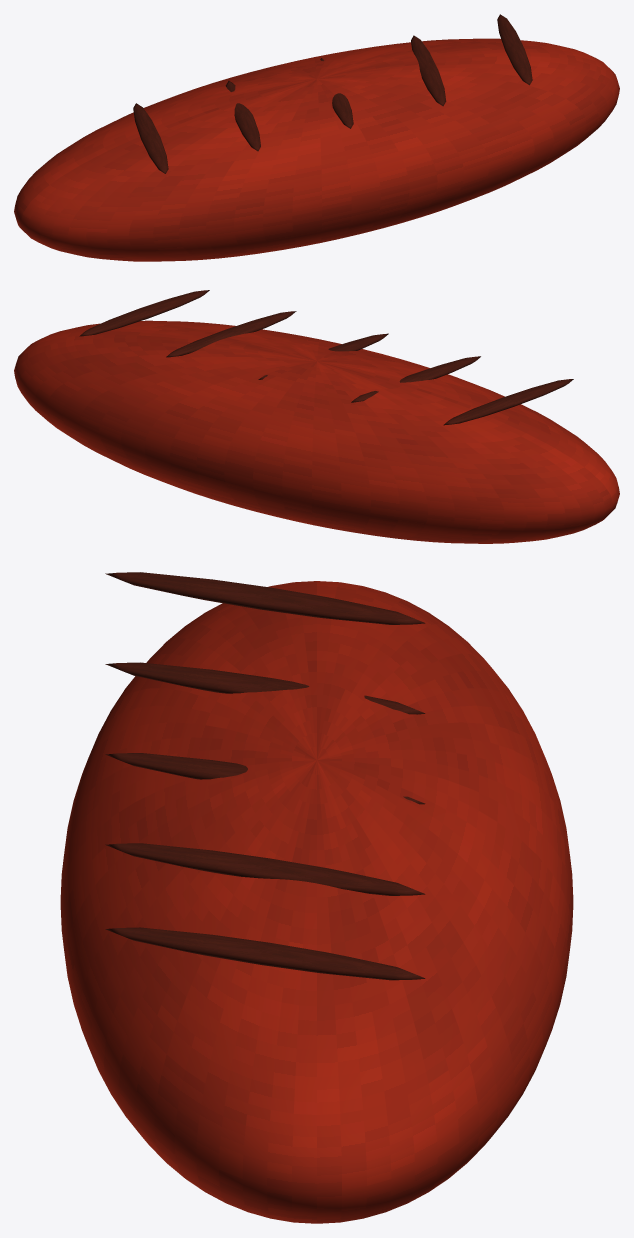
File: item_grilled_sausage.glb
3 renders of one model, top to bottom at view 1: azimuth 30°, elevation 25°; view 2: azimuth 150°, elevation 25°; view 3: azimuth 270°, elevation 25°, orthographic. The views are drawn at different scales.
Visible parts, largest first — view 1: 一本焼きソーセージ, 香ばしい焼き筋.004, 香ばしい焼き筋, 香ばしい焼き筋.003, 香ばしい焼き筋.001, 香ばしい焼き筋.002; view 2: 一本焼きソーセージ, 香ばしい焼き筋.004, 香ばしい焼き筋, 香ばしい焼き筋.003, 香ばしい焼き筋.001, 香ばしい焼き筋.002; view 3: 一本焼きソーセージ, 香ばしい焼き筋, 香ばしい焼き筋.004, 香ばしい焼き筋.003, 香ばしい焼き筋.001, 香ばしい焼き筋.002.
Part boxes in pixels (x1,y1,x2,y2): 一本焼きソーセージ: [14, 38, 619, 261]; 香ばしい焼き筋.004: [497, 14, 532, 85]; 香ばしい焼き筋: [133, 103, 168, 173]; 香ばしい焼き筋.003: [411, 35, 446, 106]; 香ばしい焼き筋.001: [225, 80, 260, 151]; 香ばしい焼き筋.002: [320, 58, 353, 128]; 一本焼きソーセージ: [14, 320, 619, 543]; 香ばしい焼き筋.004: [79, 290, 209, 336]; 香ばしい焼き筋: [443, 379, 573, 425]; 香ばしい焼き筋.003: [166, 311, 296, 357]; 香ばしい焼き筋.001: [351, 356, 480, 402]; 香ばしい焼き筋.002: [258, 333, 388, 379]; 一本焼きソーセージ: [60, 581, 573, 1223]; 香ばしい焼き筋: [105, 572, 425, 624]; 香ばしい焼き筋.004: [105, 927, 425, 980]; 香ばしい焼き筋.003: [105, 843, 425, 895]; 香ばしい焼き筋.001: [105, 662, 425, 714]; 香ばしい焼き筋.002: [105, 753, 425, 804].
Bounding box in the file's own units: 0.96 × 0.22 × 0.36.
2 materials, 2 textured.
